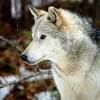Lobo: (12, 7, 93, 87)
